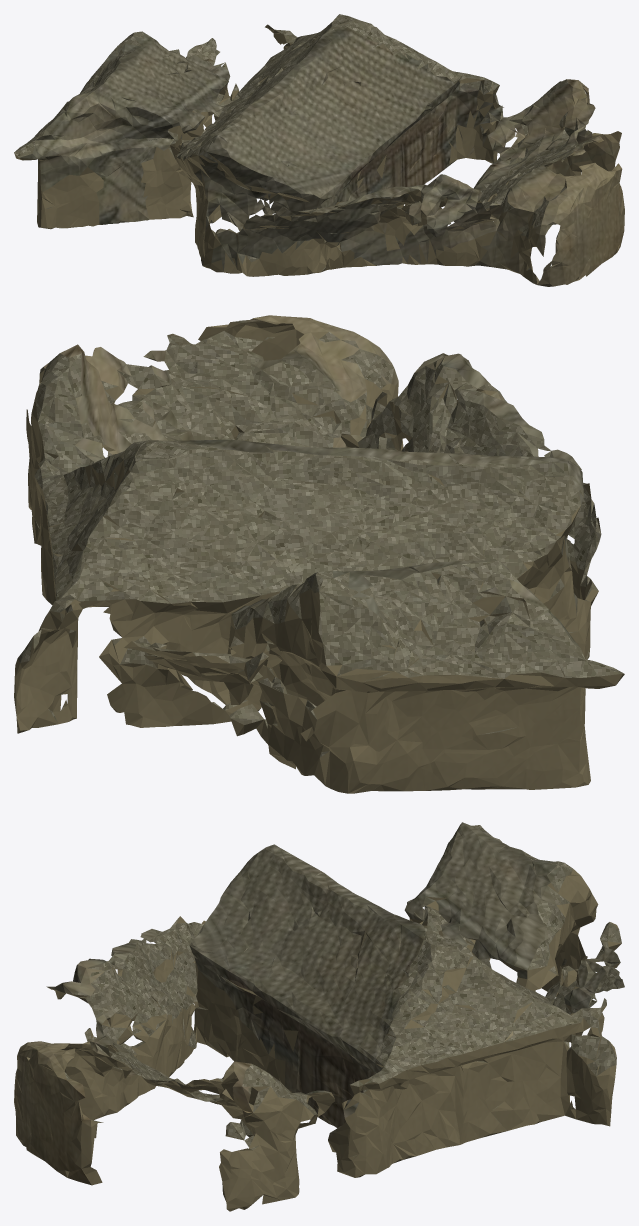
3 views of the same model, one above another, from view 1: azimuth 30°, elevation 25°; view 2: azimuth 150°, elevation 25°; view 3: azimuth 270°, elevation 25° (orthographic). The views are drawn at different scales.
Visible parts, largest first — view 1: painted, wall, roof; view 2: roof, wall, painted; view 3: painted, wall, roof.
Part boxes in pixels (x1,y1,x2,y2): painted: (19,25,624,286); wall: (14,24,624,282); roof: (14,14,612,271); roof: (17,319,624,788); wall: (14,318,624,793); painted: (43,315,597,693); painted: (14,822,620,1185); wall: (47,869,621,1211); roof: (41,823,624,1179).
Size of the model in its own units: 6.99 by 1.97 by 6.23.
Materials: 3 (3 with a texture image).
